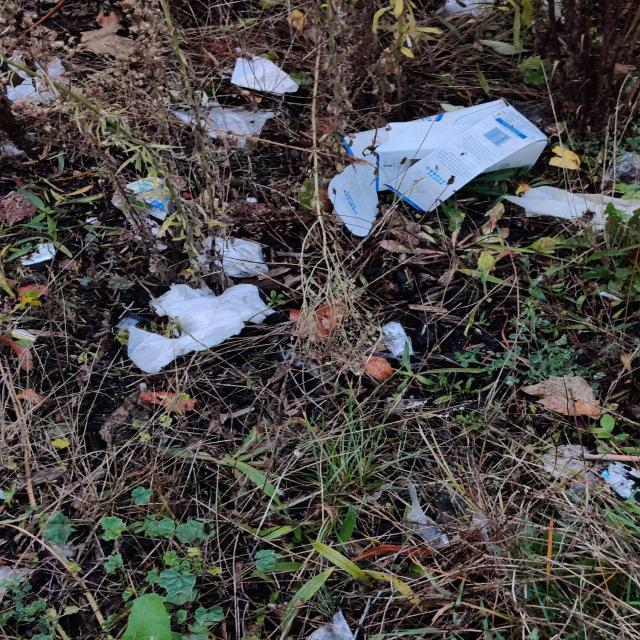litter: (323, 94, 565, 237), (109, 164, 195, 226), (221, 42, 304, 100), (190, 228, 272, 280), (375, 315, 420, 363)
